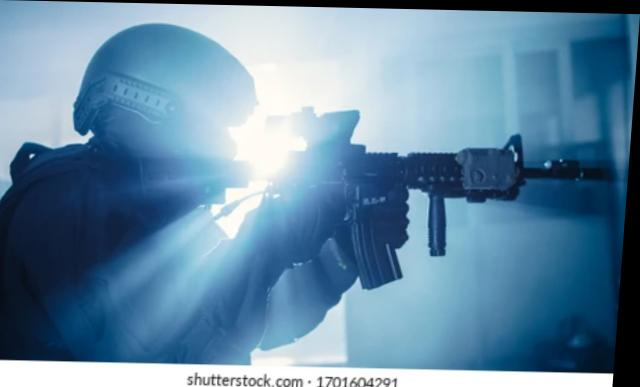other: (41, 15, 280, 350)
